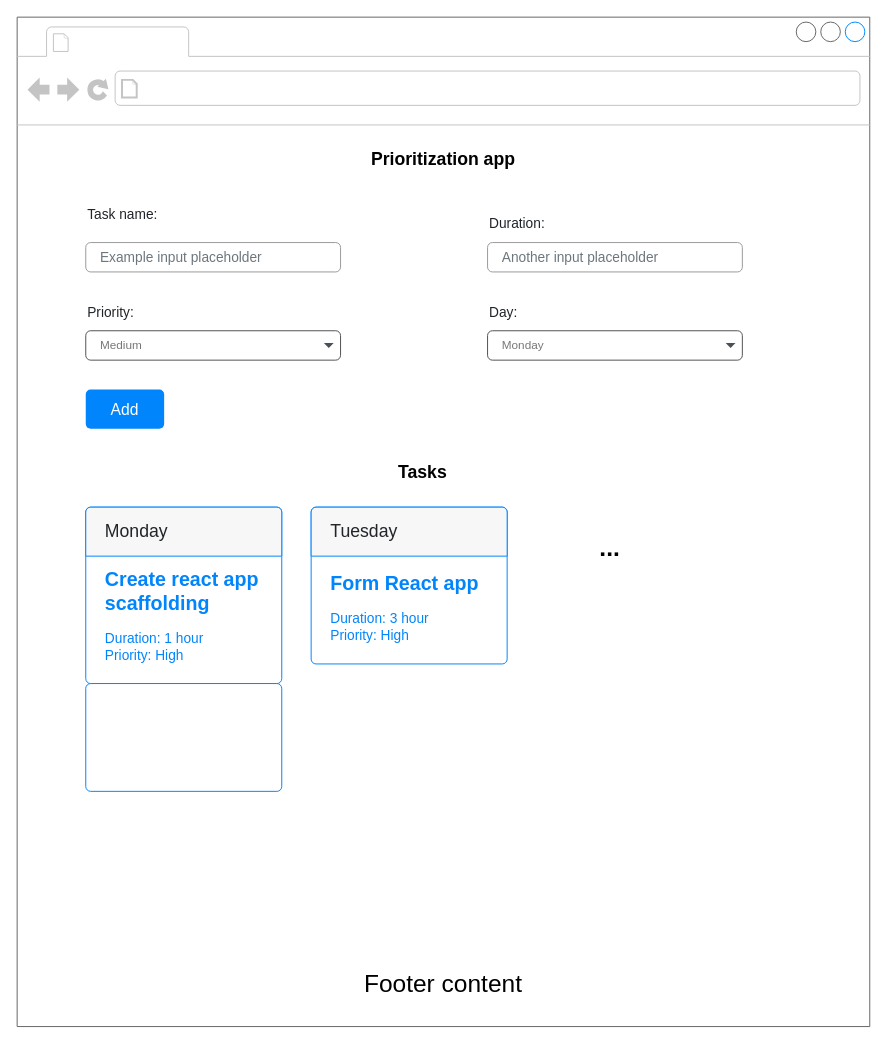
Some shapes in this 887 by 1044 pixel diagram are drawn without their labels. The centre of each missing label's shape, as x and y in pixels:
https://www.prioritization.app: the point at 267,88
Page 1: the point at 129,41
Wireframe Duration: 2 hours Priority: Medium: the point at 183,737
